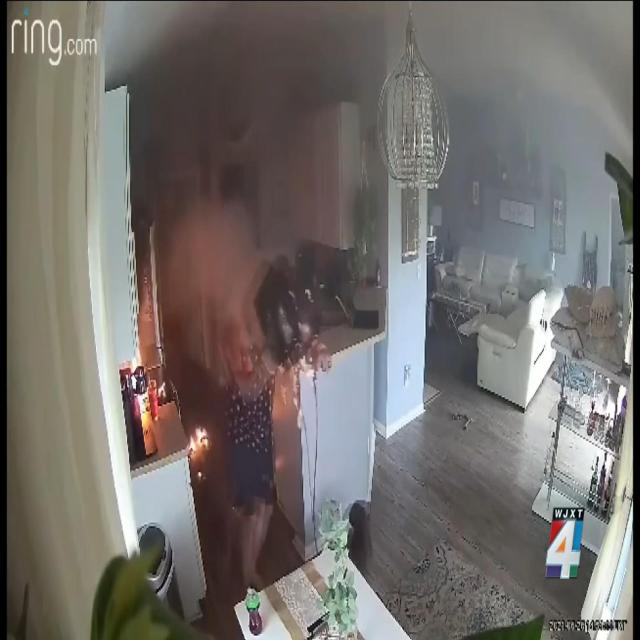fire: (188, 426, 208, 454)
